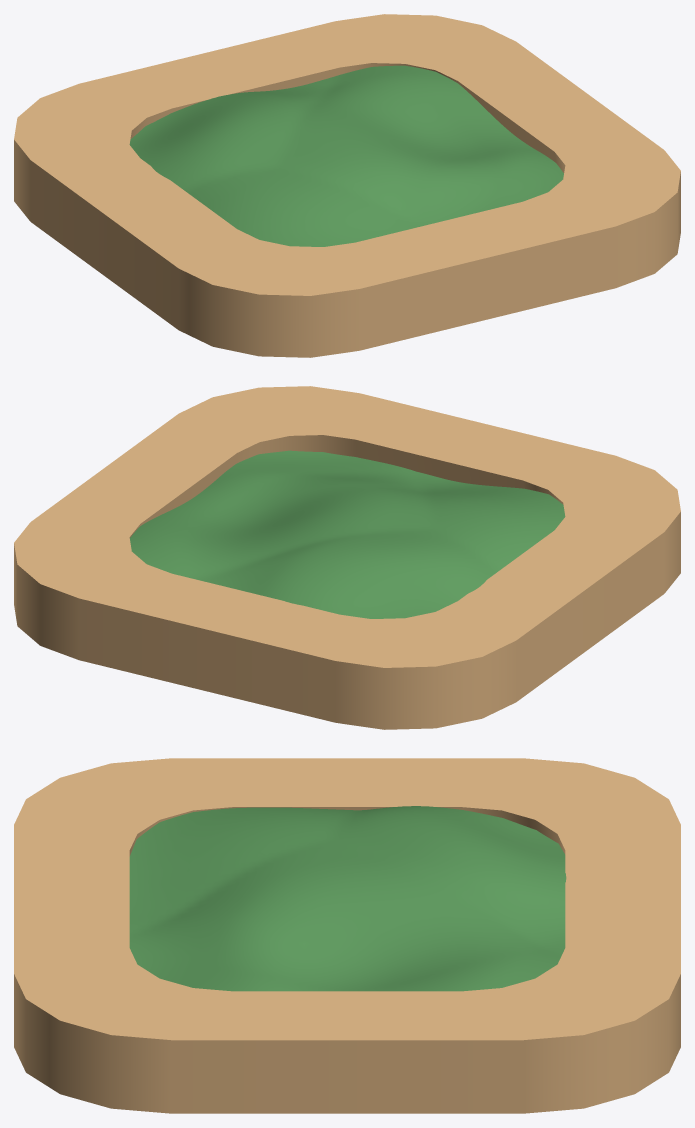
The model's file is Tree_Base_002.fbx.
3 renders of one model, top to bottom at view 1: azimuth 30°, elevation 25°; view 2: azimuth 150°, elevation 25°; view 3: azimuth 270°, elevation 25°, orthographic. The views are drawn at different scales.
Visible parts, largest first — view 1: Tree_Holder1, Grass2; view 2: Tree_Holder1, Grass2; view 3: Tree_Holder1, Grass2.
Part boxes in pixels (x1,y1,x2,y2): Tree_Holder1: (14,14,680,357); Grass2: (129,65,563,246); Tree_Holder1: (14,386,680,729); Grass2: (130,450,565,618); Tree_Holder1: (14,758,680,1113); Grass2: (129,806,566,991).
Bounding box in the file's own units: 9.6 × 1.54 × 9.6.
